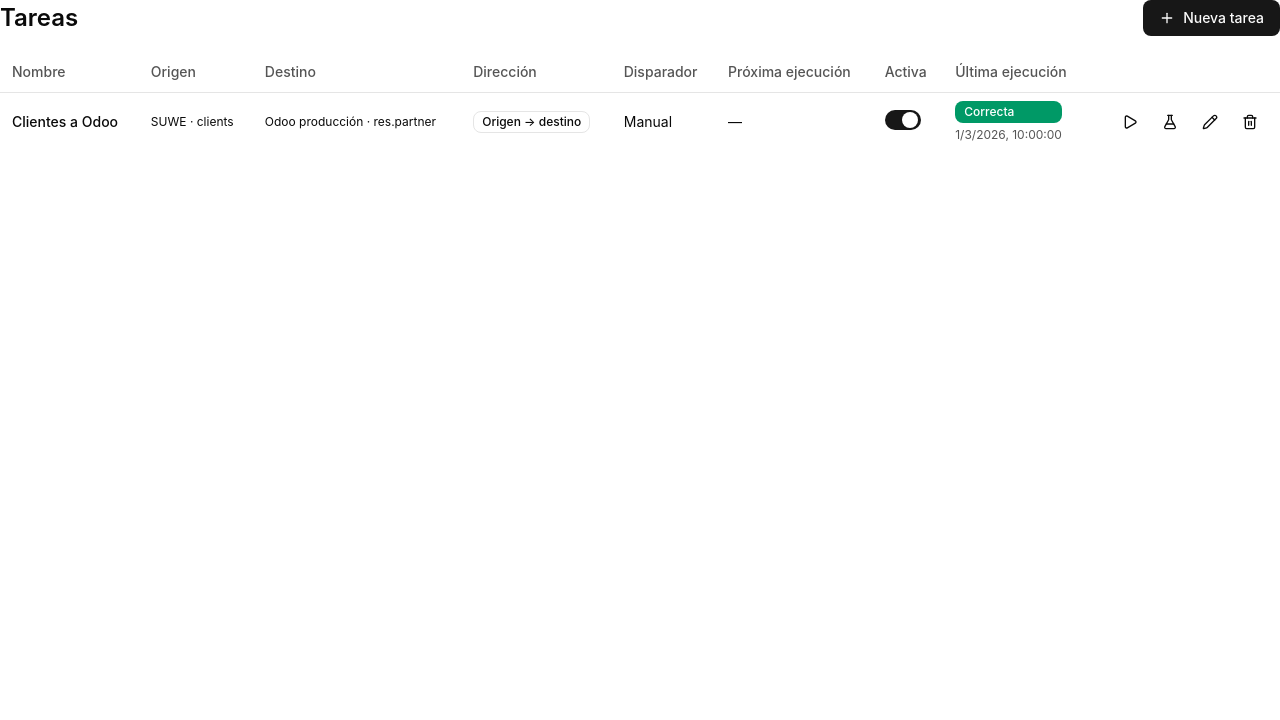
it: JobsPage › explains that the job no longer exists
The image size is (1280, 720).
Step 1. Click the button named "Ejecutar Clientes a Odoo ahora" → (1130, 122), box 1112,104 -> 1148,140
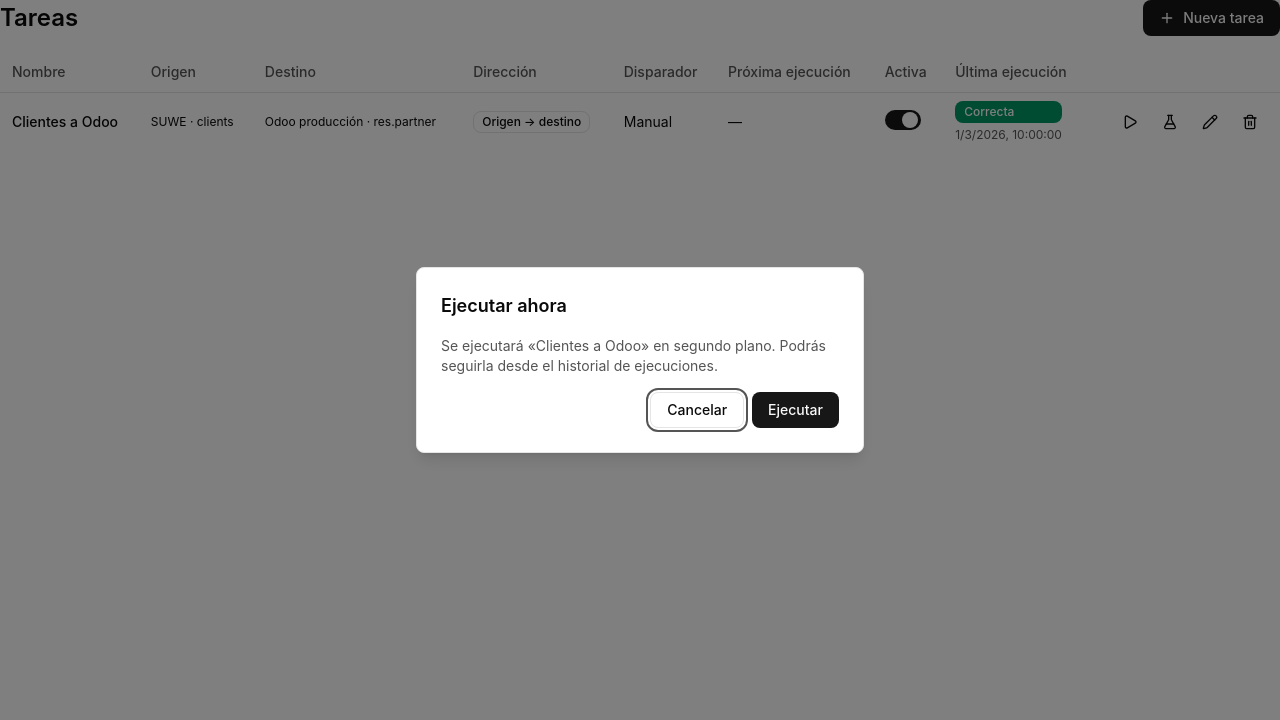
Step 2. Click the button "Ejecutar" → (796, 410), box 752,392 -> 839,428
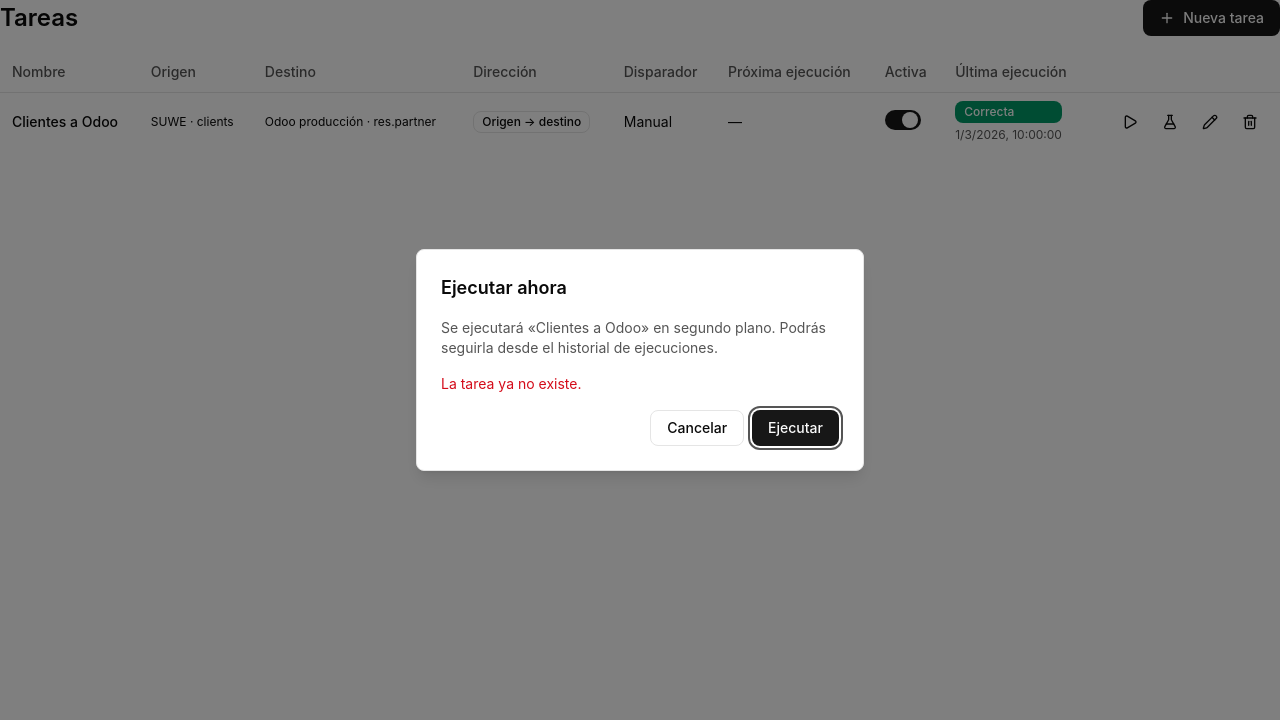
Expected: the message reads "La tarea ya no existe.", 441,375 -> 582,392
